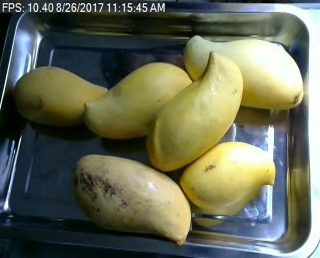Mango: (147, 49, 242, 174), (74, 153, 192, 244), (184, 35, 304, 108), (84, 61, 195, 138), (179, 141, 276, 211), (14, 67, 108, 126)
